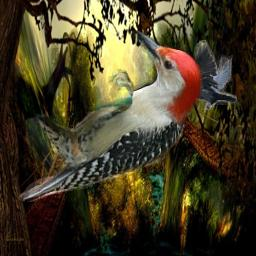Crow: (180, 40, 237, 110)
Woodpecker: (19, 30, 203, 202)
